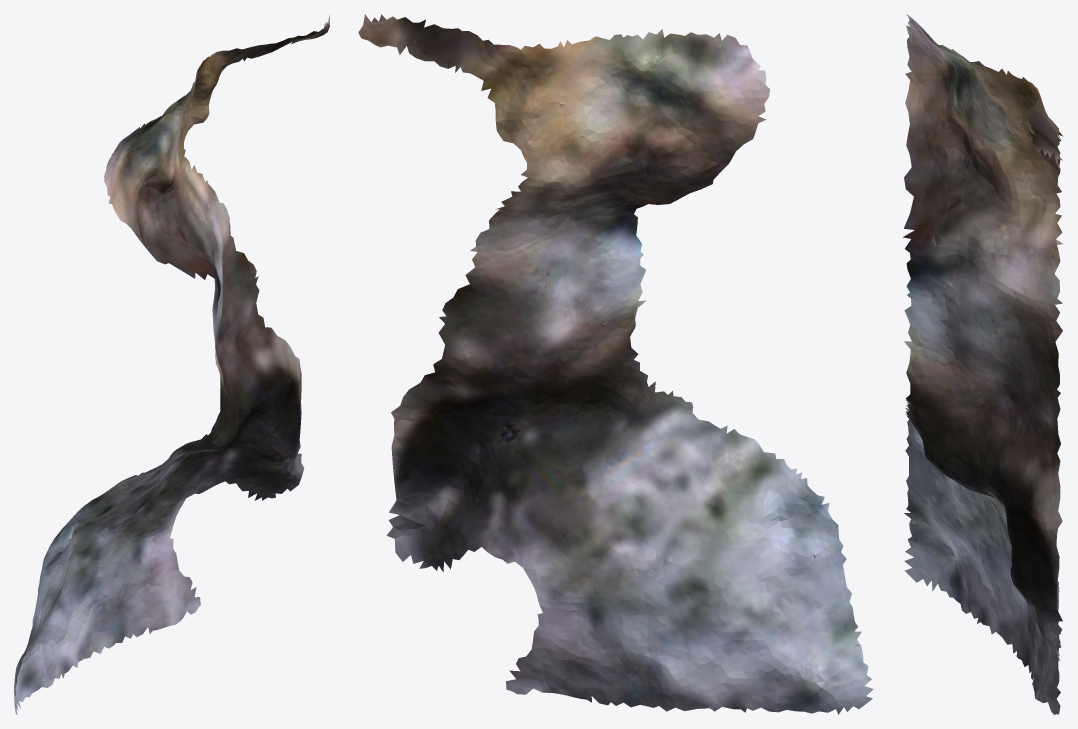
File: tile_0085.gltf
3 renders of one model, left to right at view 1: azimuth 30°, elevation 25°; view 2: azimuth 150°, elevation 25°; view 3: azimuth 270°, elevation 25°, orthographic. The views are drawn at different scales.
Visible parts, largest first — view 1: defaultobject; view 2: defaultobject; view 3: defaultobject.
Boxes of the visible parts, <box> form: defaultobject: <box>14,15,329,714</box>; defaultobject: <box>358,14,873,714</box>; defaultobject: <box>903,14,1062,714</box>.
Size of the model in its own units: 0.227 by 0.3207 by 0.0733.
1 material, 1 textured.
